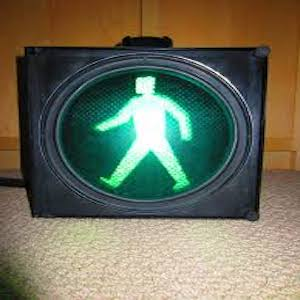green: (94, 73, 194, 191)
